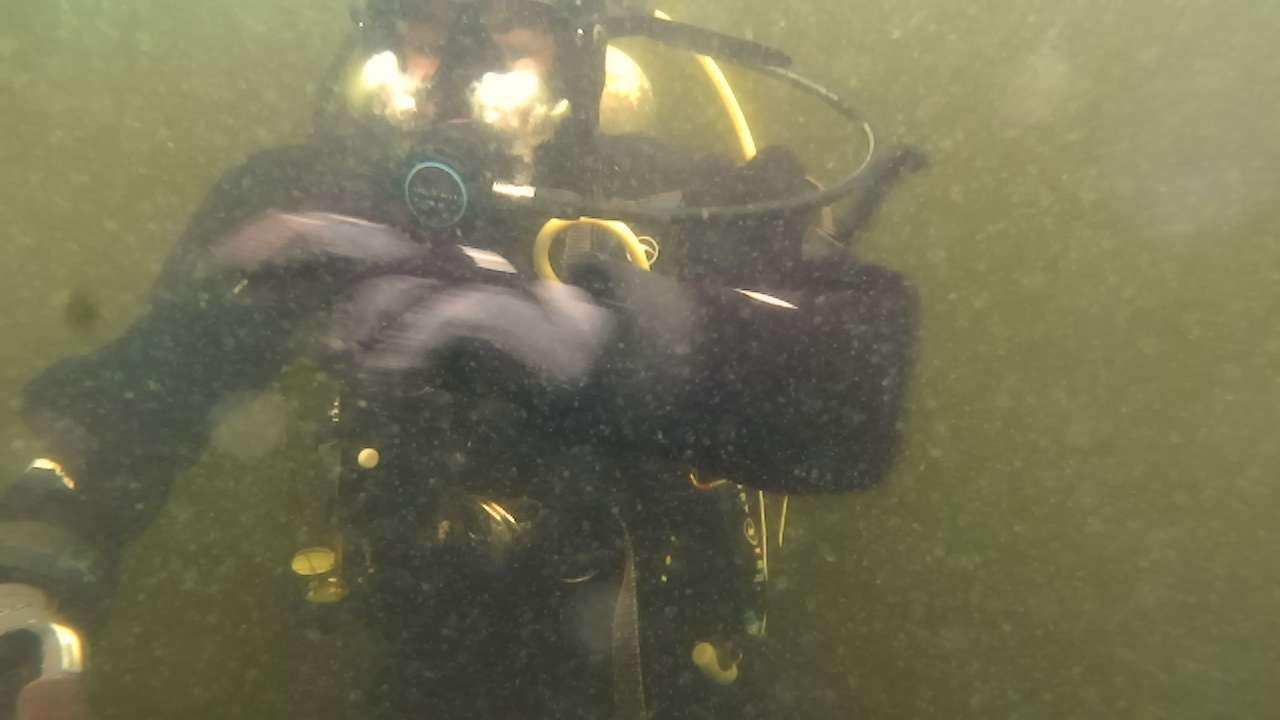Hand: (194, 192, 664, 482)
Head: (320, 8, 606, 210)
